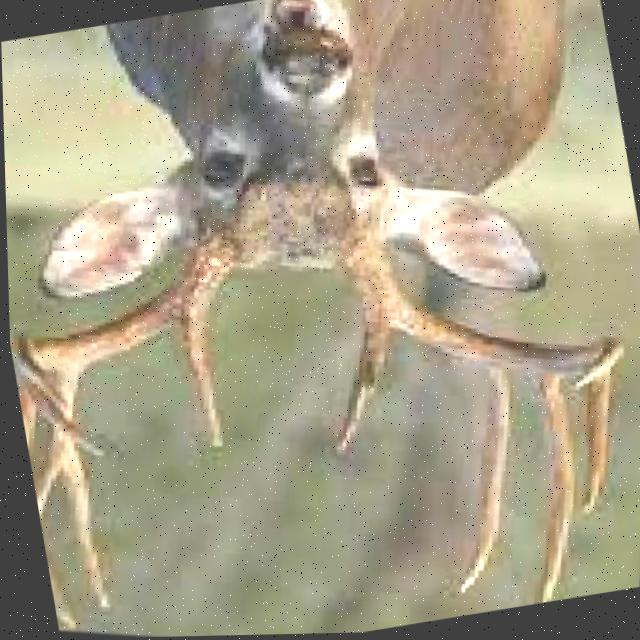L-F: (8, 226, 241, 413)
L-G1: (173, 302, 223, 450)
R-F: (338, 242, 625, 395)
R-G1: (332, 309, 390, 459)
R-G2: (451, 373, 513, 599)
R-G3: (532, 378, 574, 606)
R-G4: (578, 371, 612, 519)
